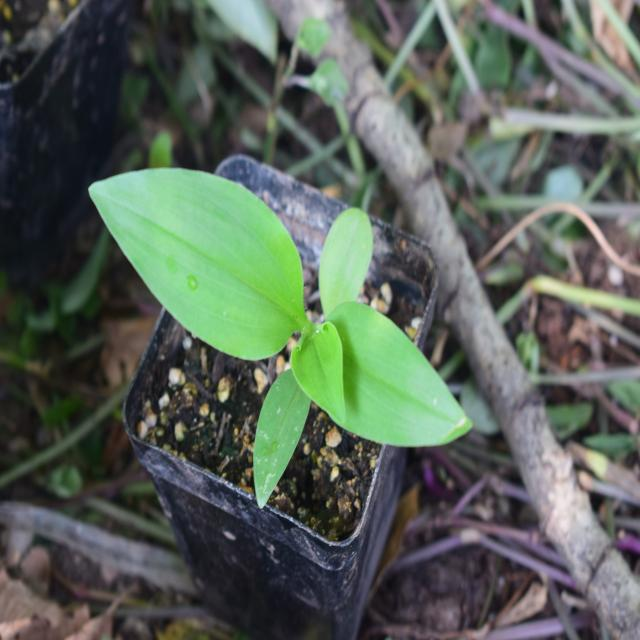Common Dayflower: (103, 145, 457, 493)
